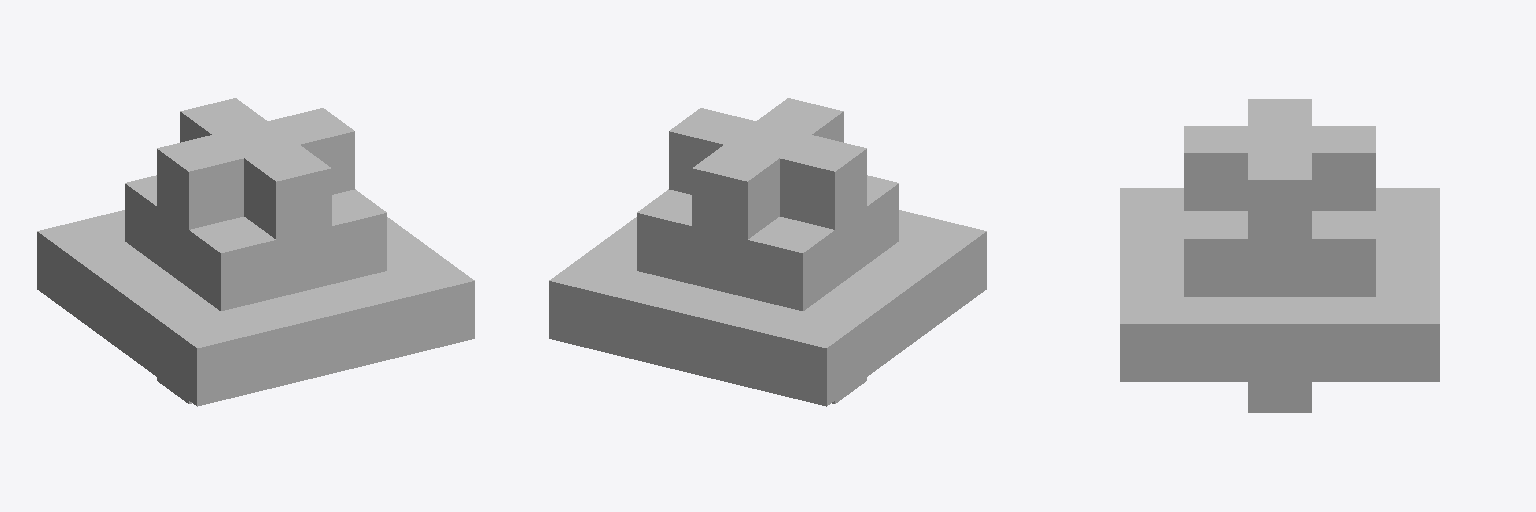
File: ufo.obj
3 views of the same model, side by side, from view 1: azimuth 30°, elevation 25°; view 2: azimuth 150°, elevation 25°; view 3: azimuth 270°, elevation 25° (orthographic).
Visible parts, largest first — view 1: object 1; view 2: object 1; view 3: object 1.
Boxes of the visible parts, <box> form: object 1: <box>37,98,474,406</box>; object 1: <box>549,98,986,406</box>; object 1: <box>1120,99,1439,412</box>.
Bounding box in the file's own units: 0.5 × 0.4 × 0.5.